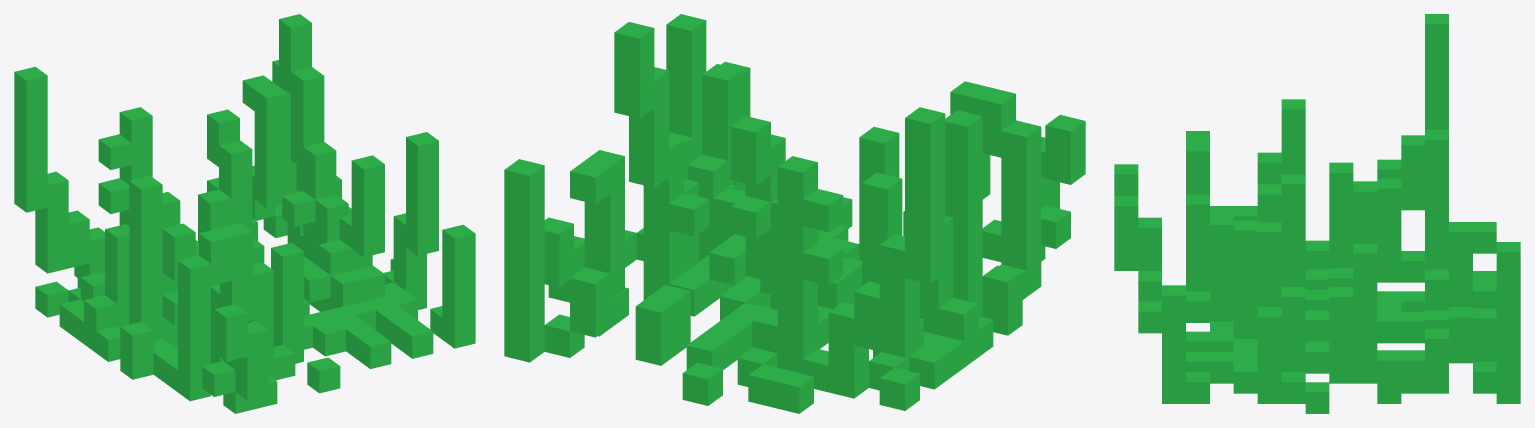
3 renders of one model, left to right at view 1: azimuth 30°, elevation 25°; view 2: azimuth 150°, elevation 25°; view 3: azimuth 270°, elevation 25°, orthographic. The views are drawn at different scales.
Visible parts, largest first — view 1: Object; view 2: Object; view 3: Object.
Boxes of the visible parts, <box> form: Object: <box>14,14,475,413</box>; Object: <box>504,14,1085,413</box>; Object: <box>1114,14,1520,413</box>.
Size of the model in its own units: 16 by 11 by 17.
Materials: 1 (1 with a texture image).
